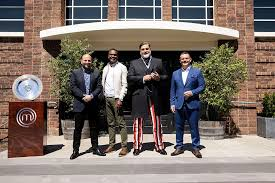Bad: (128, 41, 206, 159), (102, 42, 168, 157), (70, 49, 129, 160)
